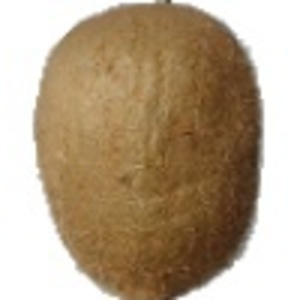kiwi: (32, 1, 265, 300)
